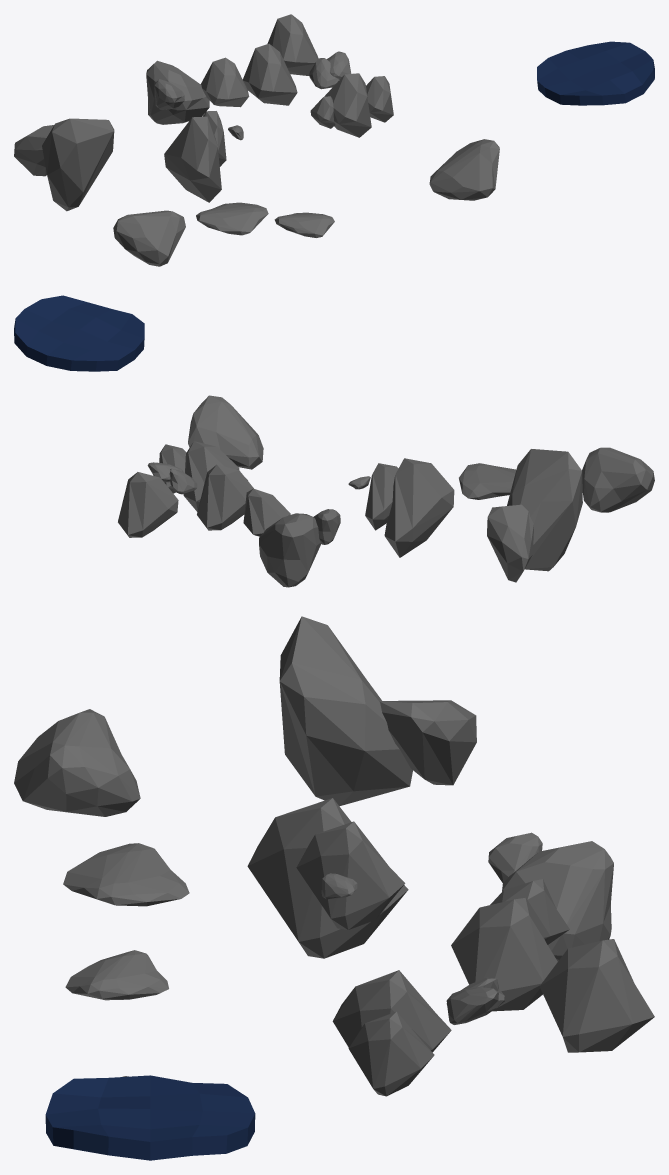
File: unity_03植物7.fbx
The picture shows the model from 3 angles, top to bottom: view 1: azimuth 30°, elevation 25°; view 2: azimuth 150°, elevation 25°; view 3: azimuth 270°, elevation 25°; orthographic projection. The views are drawn at different scales.
Visible parts, largest first — view 1: 平面.008, rock.012, rock.027, rock.021, rock.003, rock.001, rock.010, rock.023, rock.022, rock.026, rock.019, rock.013 (+7 smaller); view 2: 平面.008, rock.012, rock.027, rock.003, rock.001, rock.021, rock.022, rock.013, rock.010, rock.019, rock.023, rock.028 (+4 smaller); view 3: rock.012, 平面.008, rock.003, rock.027, rock.022, rock.010, rock.001, rock.028, rock.013, rock.019, rock.023, rock.024 (+5 smaller).
Boxes of the visible parts, x1=… form: 平面.008: x1=537, y1=41, x2=654, y2=105; rock.012: x1=42, y1=118, x2=114, y2=211; rock.027: x1=164, y1=116, x2=221, y2=202; rock.021: x1=429, y1=139, x2=499, y2=200; rock.003: x1=113, y1=210, x2=185, y2=266; rock.001: x1=146, y1=60, x2=209, y2=124; rock.010: x1=242, y1=43, x2=297, y2=105; rock.023: x1=324, y1=73, x2=371, y2=137; rock.022: x1=267, y1=14, x2=318, y2=75; rock.026: x1=200, y1=57, x2=249, y2=107; rock.019: x1=196, y1=202, x2=268, y2=235; rock.013: x1=14, y1=125, x2=53, y2=176; 平面.008: x1=14, y1=295, x2=144, y2=371; rock.012: x1=507, y1=449, x2=582, y2=571; rock.027: x1=384, y1=458, x2=454, y2=557; rock.003: x1=582, y1=447, x2=654, y2=512; rock.001: x1=259, y1=513, x2=320, y2=587; rock.021: x1=188, y1=395, x2=263, y2=469; rock.022: x1=118, y1=472, x2=178, y2=537; rock.013: x1=487, y1=504, x2=533, y2=582; rock.010: x1=197, y1=464, x2=253, y2=530; rock.019: x1=459, y1=463, x2=516, y2=499; rock.023: x1=183, y1=441, x2=239, y2=511; rock.028: x1=365, y1=463, x2=398, y2=530; rock.012: x1=279, y1=616, x2=412, y2=806; 平面.008: x1=45, y1=1075, x2=255, y2=1160; rock.003: x1=14, y1=709, x2=140, y2=816; rock.027: x1=247, y1=798, x2=408, y2=958; rock.022: x1=539, y1=939, x2=654, y2=1052; rock.010: x1=451, y1=898, x2=557, y2=1011; rock.001: x1=502, y1=841, x2=613, y2=961; rock.028: x1=296, y1=821, x2=405, y2=929; rock.013: x1=379, y1=700, x2=476, y2=785; rock.019: x1=63, y1=843, x2=189, y2=906; rock.023: x1=332, y1=970, x2=451, y2=1052; rock.024: x1=348, y1=1011, x2=434, y2=1096.
Bounding box in the file's own units: 372 × 81.75 × 209.
